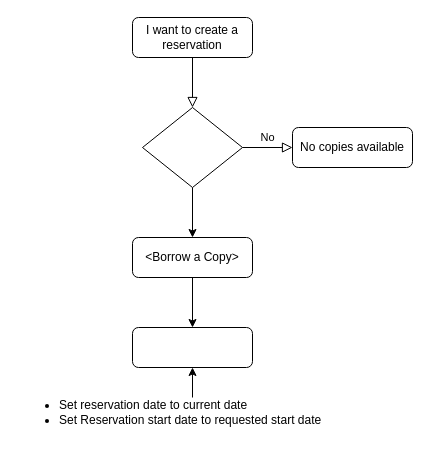
The diagram is 430 pixels wide and 456 high, and some of its shapes have lost their labels. The box of each missing label's shape, as (x1, y1, x2, y2) in pixels:
Copies available?: (142, 106, 242, 188)
Create Reservation: (132, 326, 252, 368)
